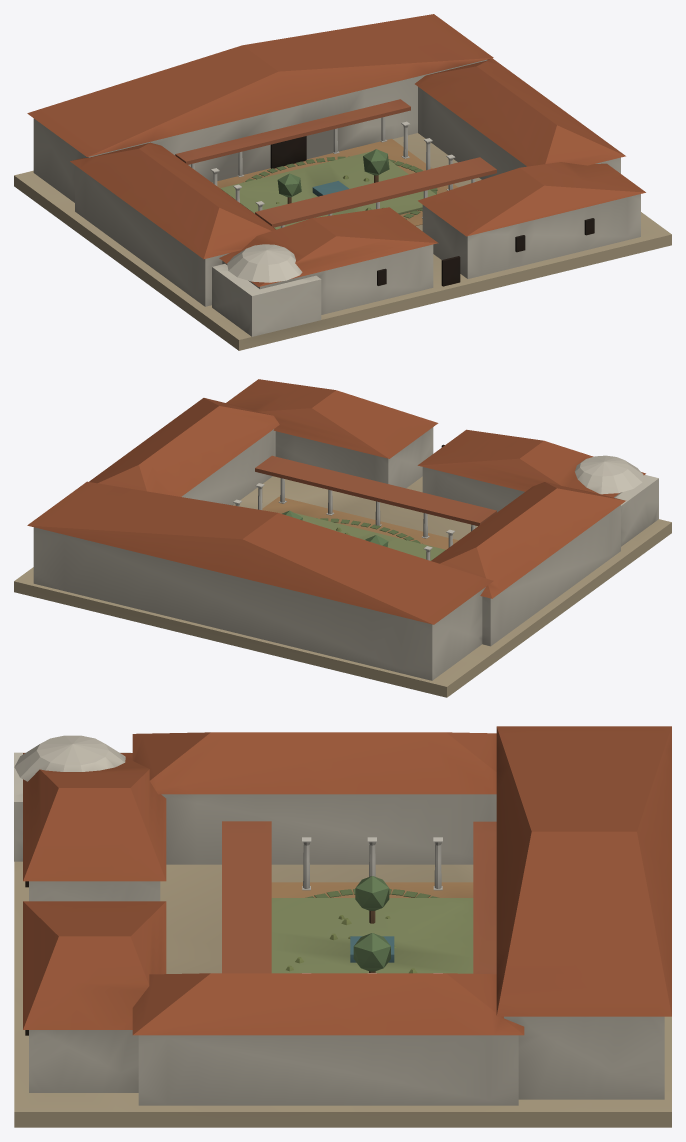
Rendered from villa-aviary.glb.
3 renders of one model, top to bottom at view 1: azimuth 30°, elevation 25°; view 2: azimuth 150°, elevation 25°; view 3: azimuth 270°, elevation 25°, orthographic. The views are drawn at different scales.
Parts seen in each view (by area): view 1: p2_roofs, p0_walls, p1_peristyle; view 2: p2_roofs, p0_walls, p1_peristyle; view 3: p2_roofs, p0_walls, p1_peristyle.
Part boxes in pixels (left/top/right/bottom): p2_roofs: left=27, top=14, right=645, bottom=336; p0_walls: left=14, top=59, right=671, bottom=350; p1_peristyle: left=191, top=117, right=475, bottom=286; p2_roofs: left=27, top=379, right=658, bottom=624; p0_walls: left=14, top=427, right=671, bottom=697; p1_peristyle: left=233, top=444, right=475, bottom=560; p2_roofs: left=14, top=726, right=671, bottom=1035; p0_walls: left=14, top=794, right=671, bottom=1127; p1_peristyle: left=286, top=837, right=442, bottom=973.
Size of the model in its own units: 50 by 10.7 by 45.02.
